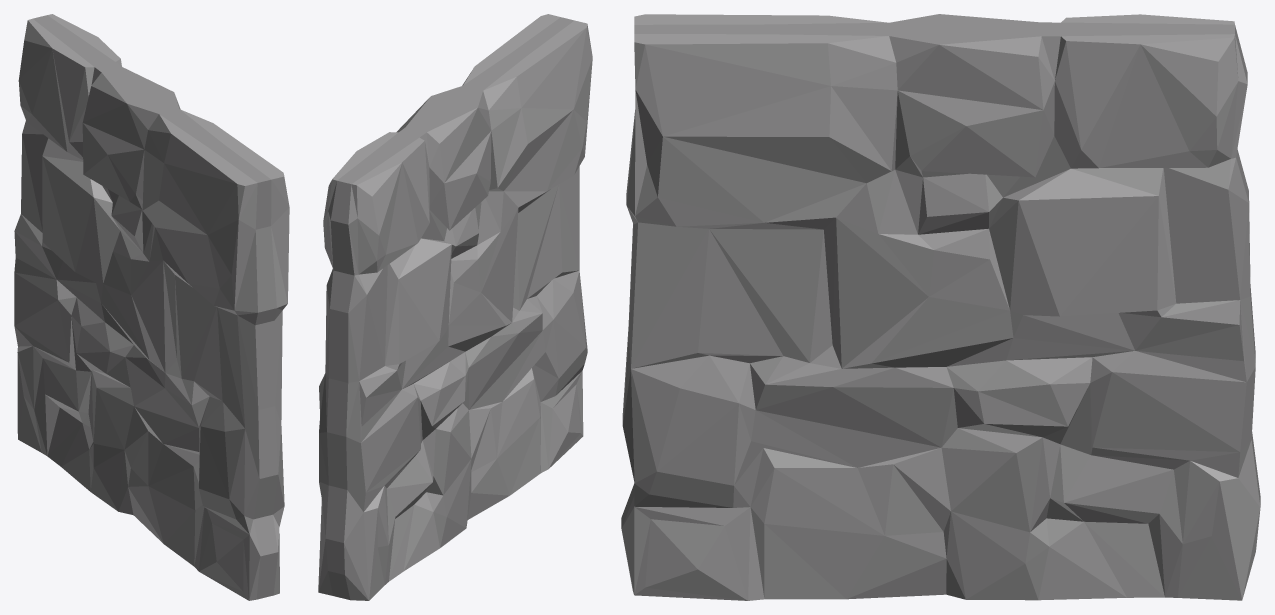
The model's file is SFV_Wall_Rock_M_003.fbx.
3 views of the same model, side by side, from view 1: azimuth 30°, elevation 25°; view 2: azimuth 150°, elevation 25°; view 3: azimuth 270°, elevation 25° (orthographic). The views are drawn at different scales.
Parts seen in each view (by area): view 1: SFV_Wall_Rock_M_003; view 2: SFV_Wall_Rock_M_003; view 3: SFV_Wall_Rock_M_003.
Boxes of the visible parts, <box> form: SFV_Wall_Rock_M_003: <box>14,14,289,600</box>; SFV_Wall_Rock_M_003: <box>318,14,592,600</box>; SFV_Wall_Rock_M_003: <box>621,14,1260,600</box>.
Size of the model in its own units: 49.41 by 300 by 313.
